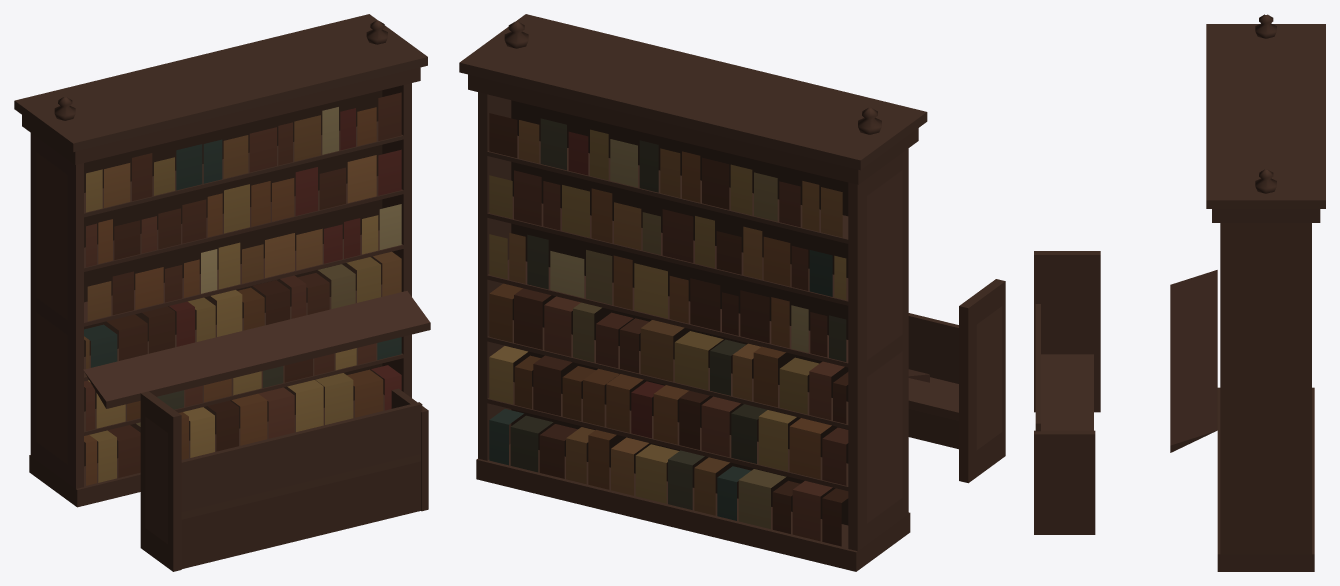
File: bookcase.press_tall.walnut.glb
3 renders of one model, left to right at view 1: azimuth 30°, elevation 25°; view 2: azimuth 150°, elevation 25°; view 3: azimuth 270°, elevation 25°, orthographic. The views are drawn at different scales.
Visible parts, largest first — view 1: bookcase_press_tall_walnut; view 2: bookcase_press_tall_walnut; view 3: bookcase_press_tall_walnut.
Boxes of the visible parts, bbox=[...] form: bookcase_press_tall_walnut: bbox=[14, 14, 430, 571]; bookcase_press_tall_walnut: bbox=[459, 14, 1005, 571]; bookcase_press_tall_walnut: bbox=[1034, 14, 1325, 571].
Size of what is drawn, in the model's own units: 3 by 3.15 by 2.1.
